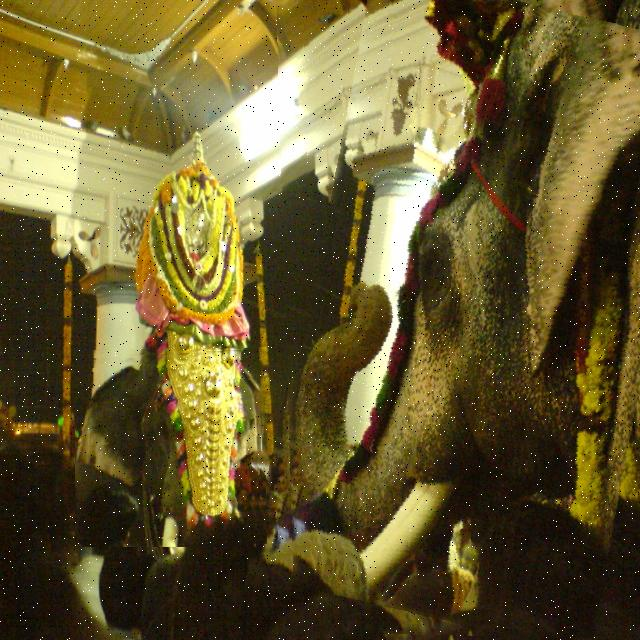elephant: (276, 0, 640, 640), (75, 348, 266, 547)
